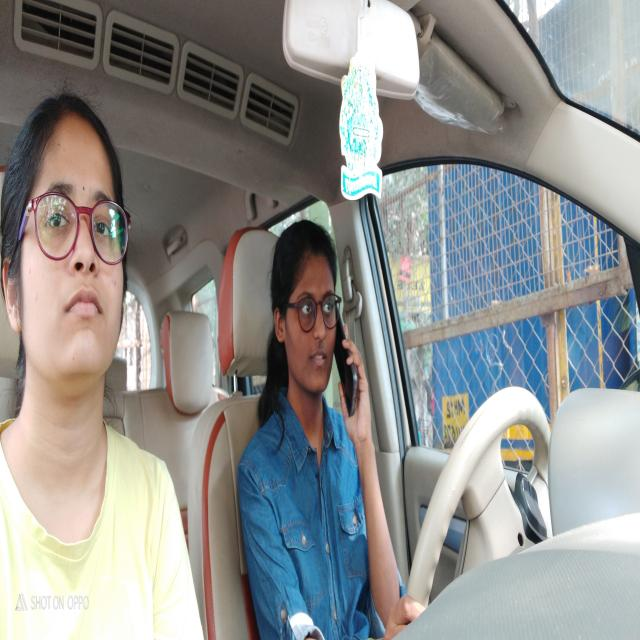mobile: (332, 312, 363, 418)
person: (0, 82, 132, 406), (268, 212, 338, 400)
